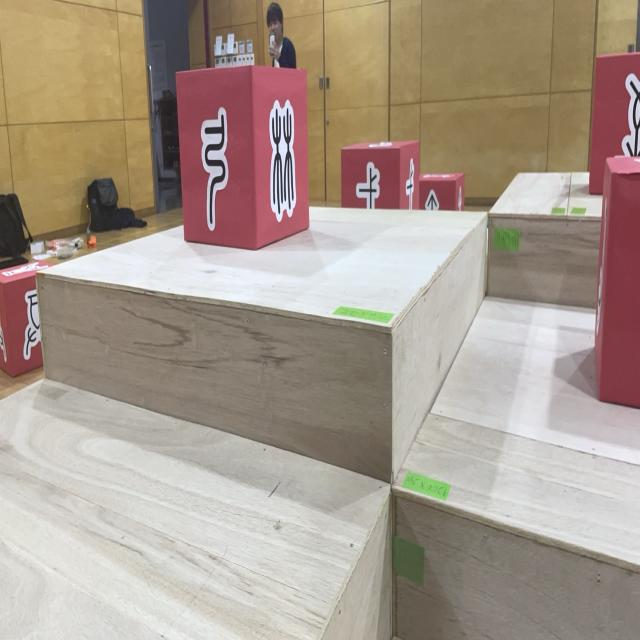12: (424, 189, 440, 210), (458, 184, 462, 210)
2: (270, 97, 298, 221)
4: (201, 106, 229, 234)
7: (622, 72, 640, 156)
8: (22, 286, 42, 362), (2, 260, 48, 278)
9: (355, 160, 380, 210), (405, 158, 415, 210)
fighter: (175, 64, 310, 250), (594, 155, 640, 409), (589, 51, 640, 194), (0, 260, 55, 378), (340, 139, 420, 210), (420, 172, 466, 210)
